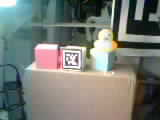duck: (93, 28, 115, 53)
